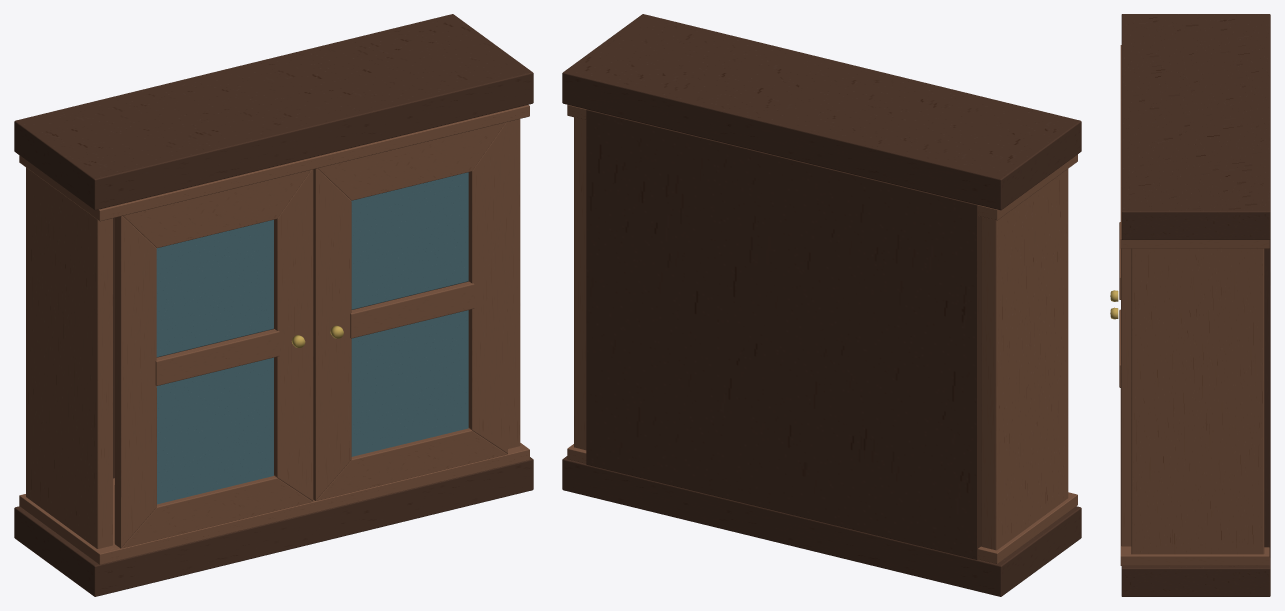
The model's file is WallCabinet_FUR06.fbx.
The picture shows the model from 3 angles, left to right: view 1: azimuth 30°, elevation 25°; view 2: azimuth 150°, elevation 25°; view 3: azimuth 270°, elevation 25°; orthographic projection. The views are drawn at different scales.
Visible parts, largest first — view 1: WallCabinet; view 2: WallCabinet; view 3: WallCabinet.
Boxes of the visible parts, <box> form: WallCabinet: <box>14,14,533,596</box>; WallCabinet: <box>562,14,1081,596</box>; WallCabinet: <box>1110,14,1270,596</box>.
Size of the model in its own units: 0.88 by 0.8 by 0.301.
Materials: 1 (1 with a texture image).
